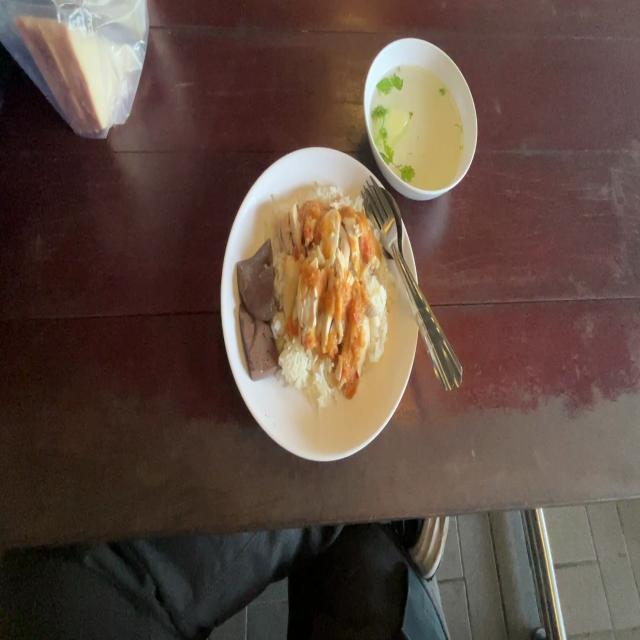boiled_chicken: (271, 197, 363, 354)
boiled_chicken_blood_jelly: (233, 241, 271, 317), (241, 298, 277, 376)
chicken_rice: (235, 189, 384, 404)
